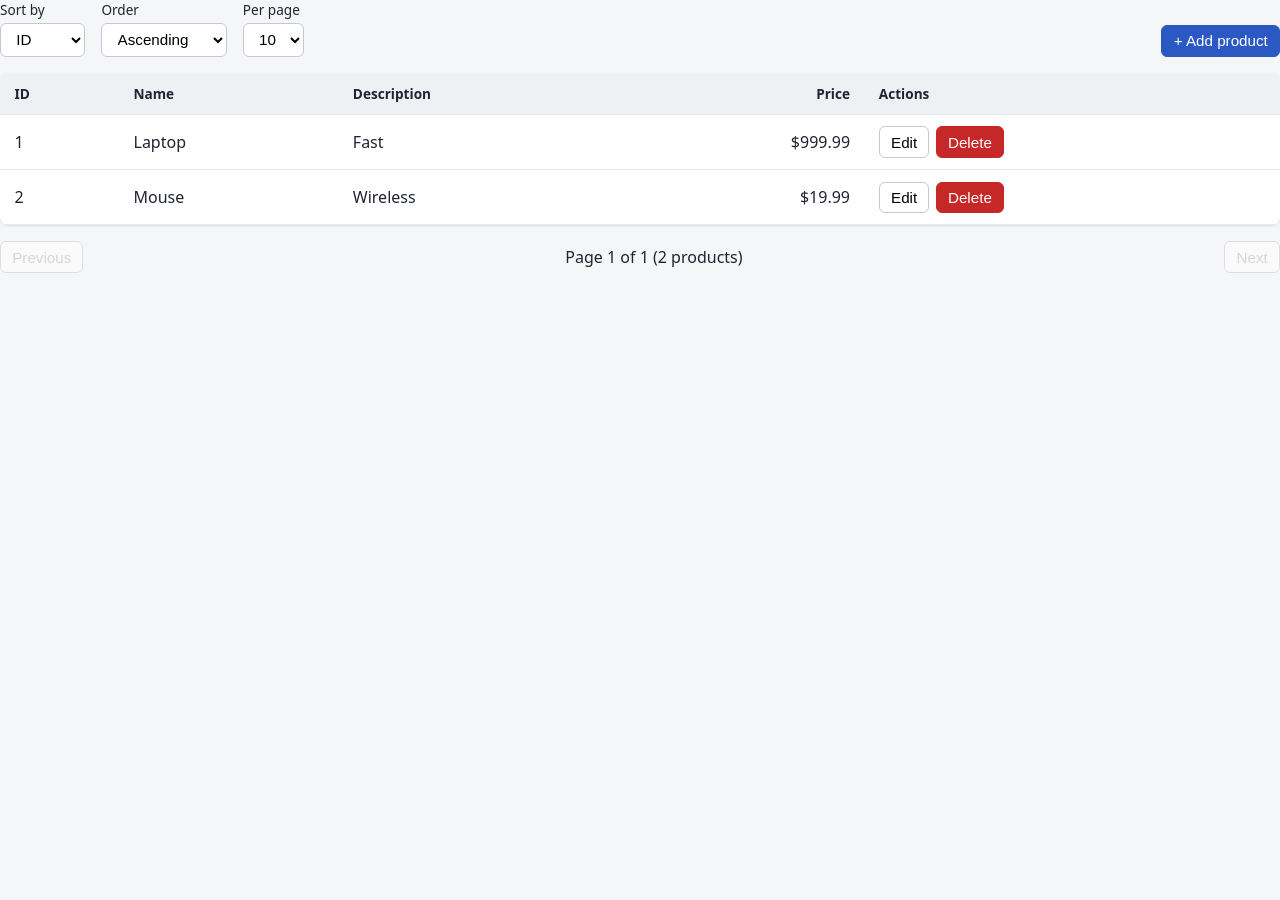
Test: ProductList › keeps the dialog open with a message when the server is down
Expected: the text "Laptop" is shown, [119,115,338,170]
Click the button "Delete" in the row of "Laptop": {"x": 970, "y": 142} [936,126,1004,158]
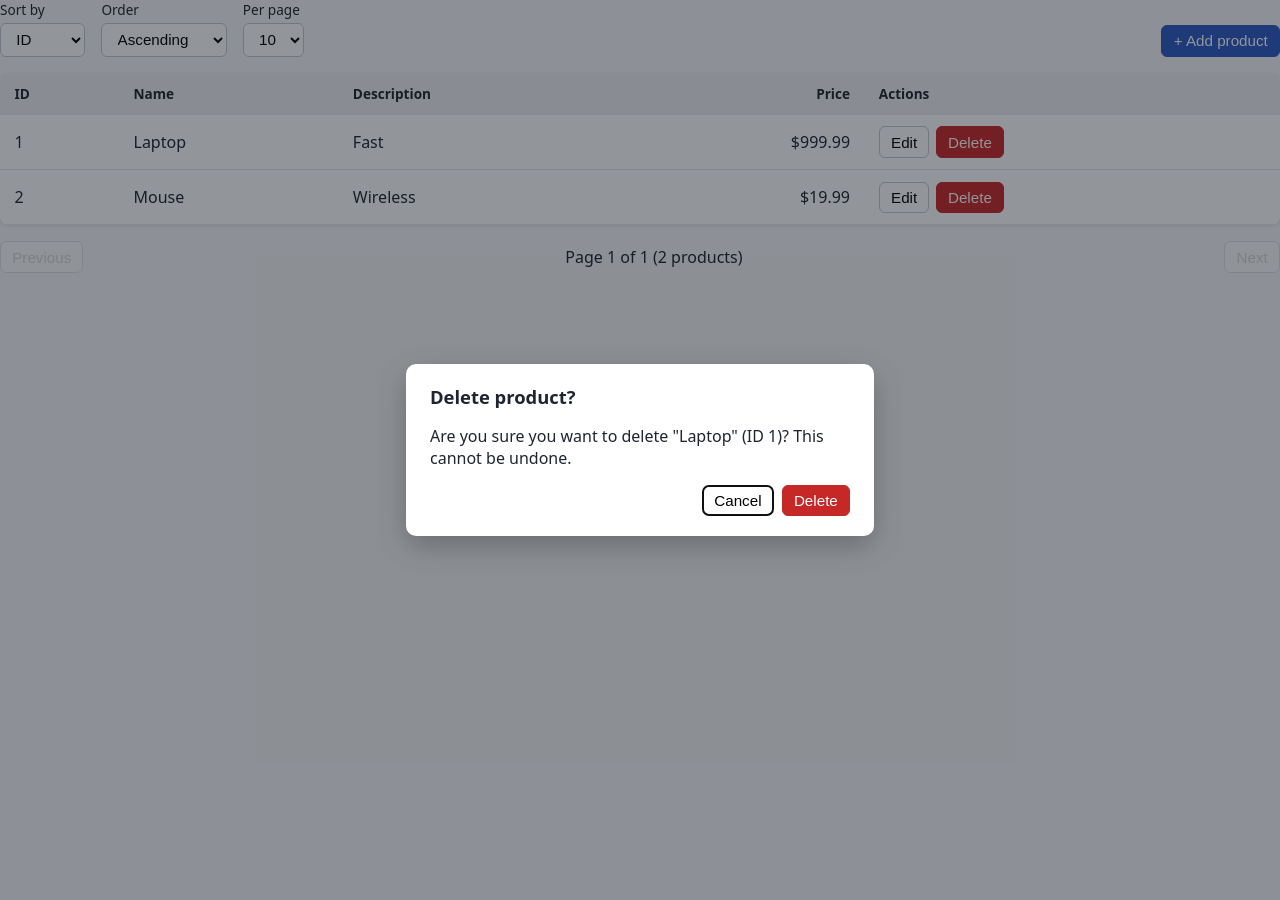
Click the button "Delete": {"x": 816, "y": 500} [782,485,850,516]
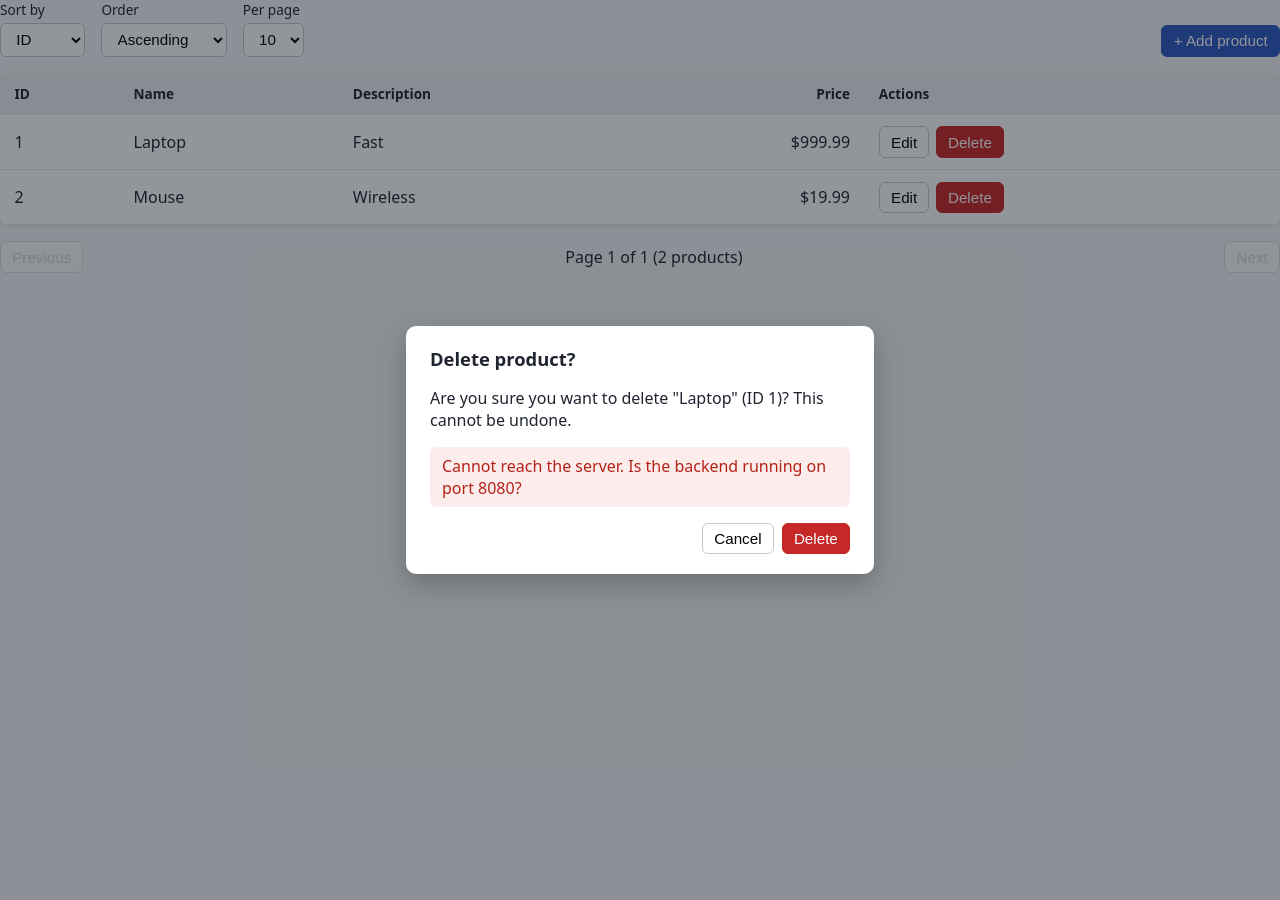
Expected: the text "Cannot reach the server" is shown, [442,455,826,499]
